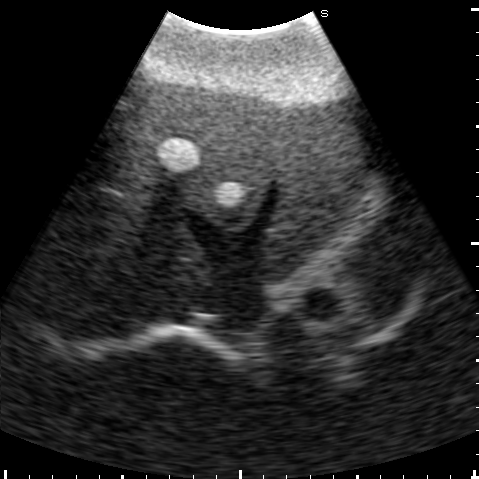S2: (262, 104, 364, 283)
S4: (105, 76, 281, 230)
S7: (34, 247, 172, 339)
S8: (68, 181, 208, 290)
Tumor: (154, 139, 201, 173), (216, 182, 244, 206)
